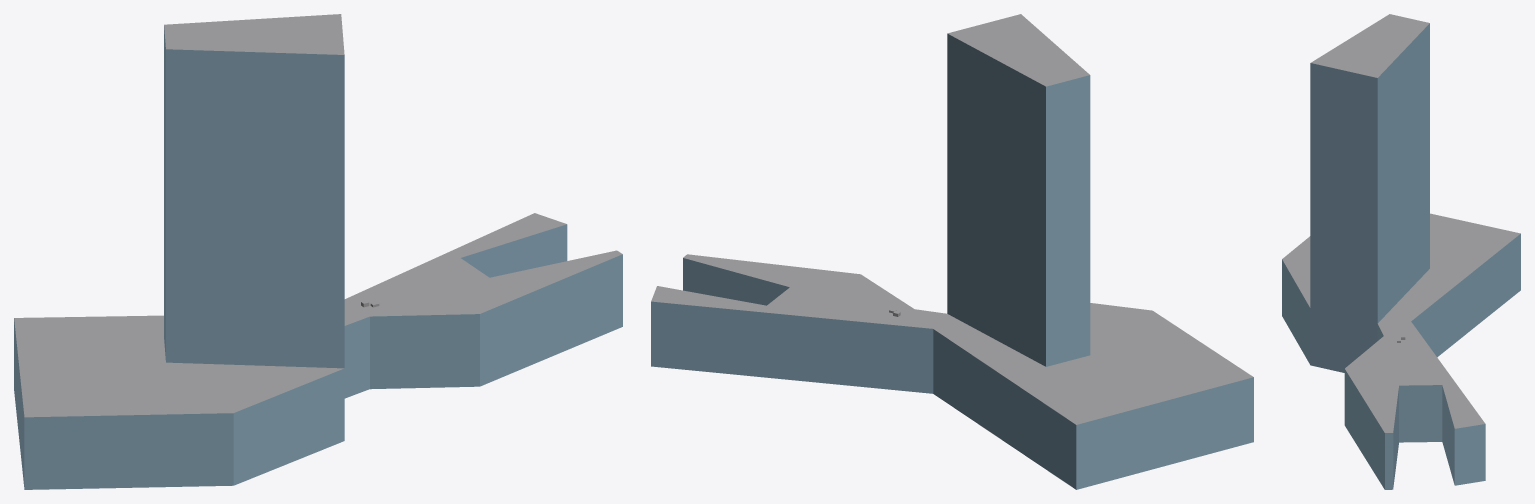
The model's file is building_-2_0.glb.
The picture shows the model from 3 angles, left to right: view 1: azimuth 30°, elevation 25°; view 2: azimuth 150°, elevation 25°; view 3: azimuth 270°, elevation 25°; orthographic projection. The views are drawn at different scales.
Parts seen in each view (by area): view 1: glass_blue, roof; view 2: glass_blue, roof; view 3: glass_blue, roof.
Boxes of the visible parts, left/top/right/bottom form: glass_blue: left=14, top=26, right=622, bottom=489; roof: left=14, top=14, right=622, bottom=417; glass_blue: left=651, top=33, right=1253, bottom=489; roof: left=651, top=14, right=1253, bottom=424; glass_blue: left=1282, top=23, right=1520, bottom=489; roof: left=1282, top=14, right=1520, bottom=432.
Size of the model in its own units: 235 by 141 by 101.
